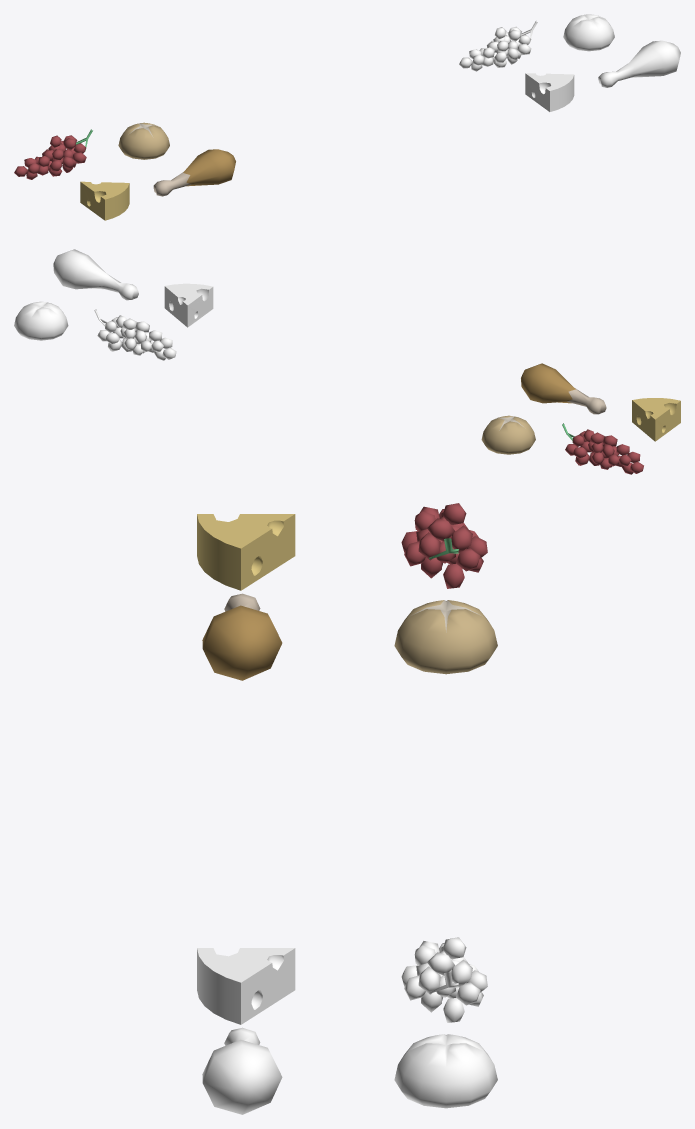
The model's file is food_pack_0.fbx.
The picture shows the model from 3 angles, top to bottom: view 1: azimuth 30°, elevation 25°; view 2: azimuth 150°, elevation 25°; view 3: azimuth 270°, elevation 25°; orthographic projection. The views are drawn at different scales.
Visible parts, largest first — view 1: TurkeyLeg.001, TurkeyLeg, Grapes, Grapes.001, CheeseWedge.001, CheeseWedge, SplitTopBread, SplitTopBread.001; view 2: Grapes.001, Grapes, TurkeyLeg, TurkeyLeg.001, CheeseWedge, CheeseWedge.001, SplitTopBread, SplitTopBread.001; view 3: CheeseWedge, CheeseWedge.001, SplitTopBread.001, SplitTopBread, TurkeyLeg, TurkeyLeg.001, Grapes, Grapes.001.
Part boxes in pixels (x1=…): TurkeyLeg.001: x1=153, y1=149, x2=235, y2=196; TurkeyLeg: x1=598, y1=40, x2=680, y2=87; Grapes: x1=459, y1=20, x2=537, y2=71; Grapes.001: x1=14, y1=129, x2=92, y2=179; CheeseWedge.001: x1=80, y1=181, x2=129, y2=220; CheeseWedge: x1=525, y1=73, x2=574, y2=111; SplitTopBread: x1=563, y1=14, x2=614, y2=51; SplitTopBread.001: x1=118, y1=122, x2=169, y2=159; Grapes.001: x1=562, y1=423, x2=643, y2=474; Grapes: x1=94, y1=309, x2=176, y2=360; TurkeyLeg: x1=53, y1=249, x2=138, y2=300; TurkeyLeg.001: x1=521, y1=363, x2=606, y2=414; CheeseWedge: x1=164, y1=283, x2=213, y2=327; CheeseWedge.001: x1=632, y1=398, x2=680, y2=441; SplitTopBread: x1=14, y1=301, x2=68, y2=340; SplitTopBread.001: x1=481, y1=415, x2=535, y2=454; CheeseWedge: x1=197, y1=948, x2=295, y2=1024; CheeseWedge.001: x1=197, y1=514, x2=295, y2=590; SplitTopBread.001: x1=394, y1=600, x2=497, y2=674; SplitTopBread: x1=394, y1=1034, x2=497, y2=1108; TurkeyLeg: x1=202, y1=1027, x2=282, y2=1114; TurkeyLeg.001: x1=202, y1=593, x2=282, y2=680; Grapes: x1=401, y1=937, x2=487, y2=1022; Grapes.001: x1=401, y1=503, x2=487, y2=588.
Size of what is drawn, in the model's own units: 13.75 by 0.7371 by 2.93.
